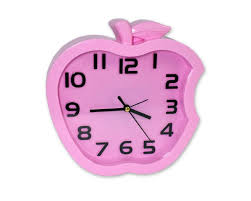alarm_clock: (46, 14, 204, 174)
